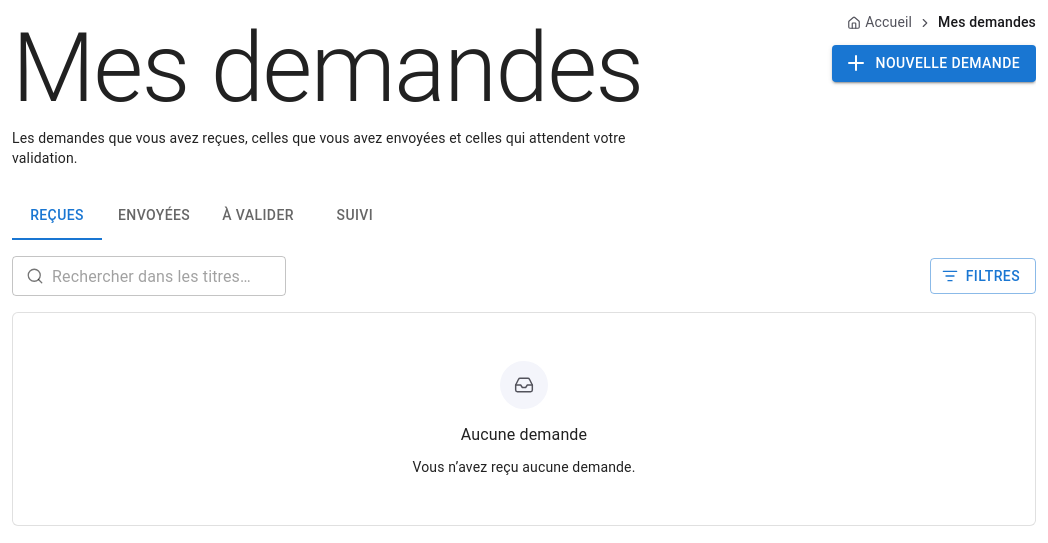
Test: Onglet « À valider » › est proposé aux admins et charge les demandes à valider de leurs catégories
The width and height of the screenshot is (1048, 543).
Click the tab "À valider": point(258, 216) top-left (206, 192), bottom-right (310, 240)
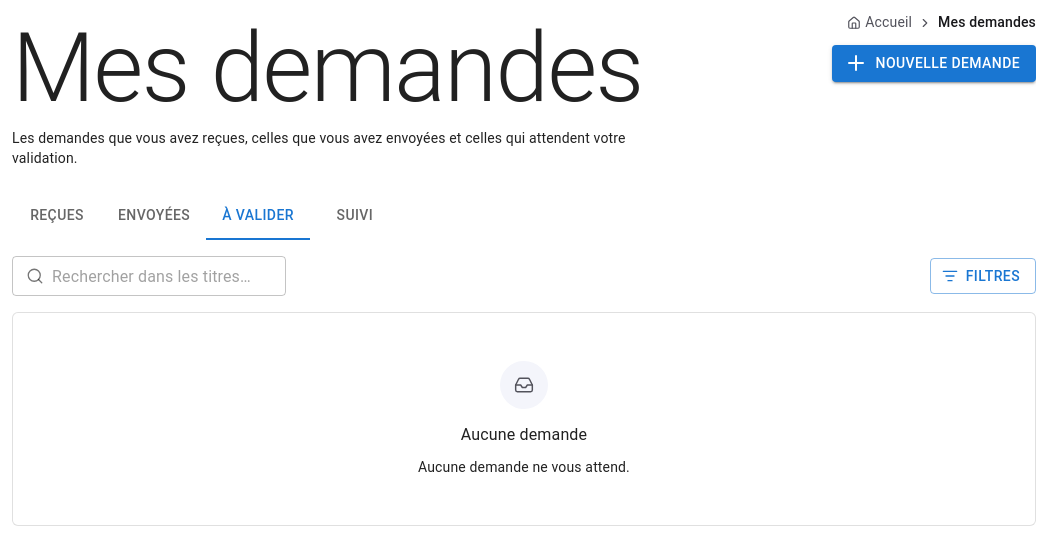
Expected: the text "Aucune demande ne vous attend." is shown, top-left (418, 457), bottom-right (630, 477)
